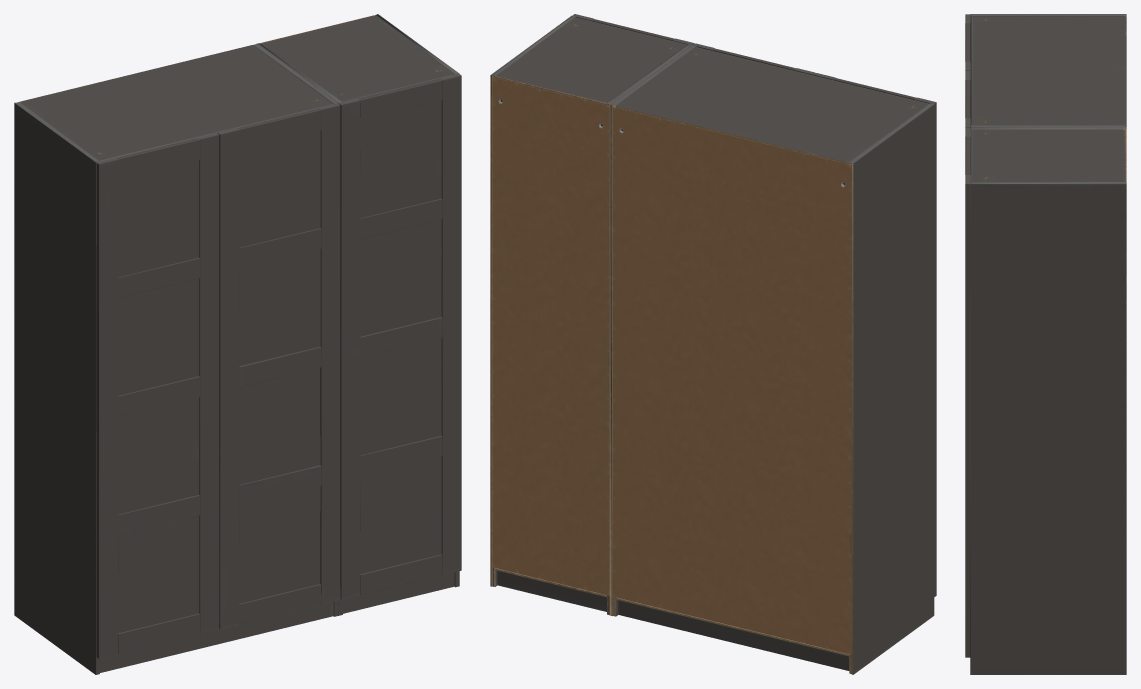
The model's file is 08 - PAX BERGSBO Wardrobe - dark greydark grey 150x60x201 cm.glb.
3 renders of one model, left to right at view 1: azimuth 30°, elevation 25°; view 2: azimuth 150°, elevation 25°; view 3: azimuth 270°, elevation 25°, orthographic. The views are drawn at different scales.
Parts seen in each view (by area): view 1: 80509122-PAX001, model.001, model.002, model.003, model; view 2: 80509122-PAX001, model, model.001; view 3: model, 80509122-PAX001, model.003, model.001, model.002.
Part boxes in pixels (<box>): 80509122-PAX001: <box>14,43,338,674</box>; model.001: <box>96,133,219,658</box>; model.002: <box>217,103,340,629</box>; model.003: <box>339,74,461,599</box>; model: <box>257,14,459,615</box>; 80509122-PAX001: <box>611,45,934,674</box>; model: <box>490,15,691,615</box>; model.001: <box>814,73,936,596</box>; model: <box>970,127,1126,674</box>; 80509122-PAX001: <box>970,14,1126,127</box>; model.003: <box>965,127,970,657</box>; model.001: <box>965,14,970,70</box>; model.002: <box>965,71,970,127</box>.
Bounding box in the file's own units: 1.49 × 2.01 × 0.5985.
Materials: 1 (1 with a texture image).
